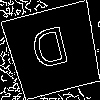D: (28, 26, 73, 78)
